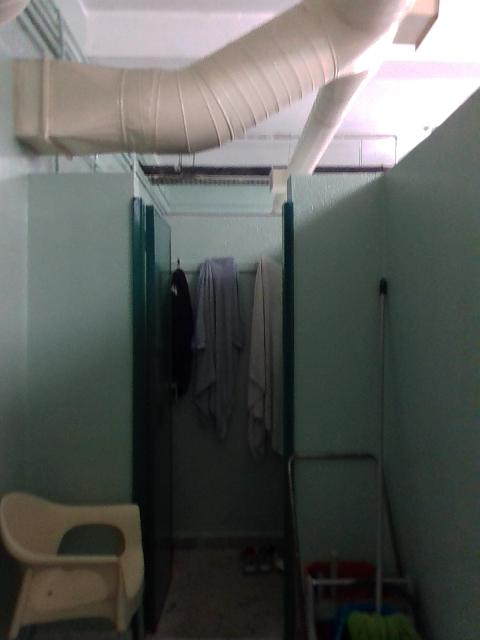open_door: (130, 198, 293, 498)
